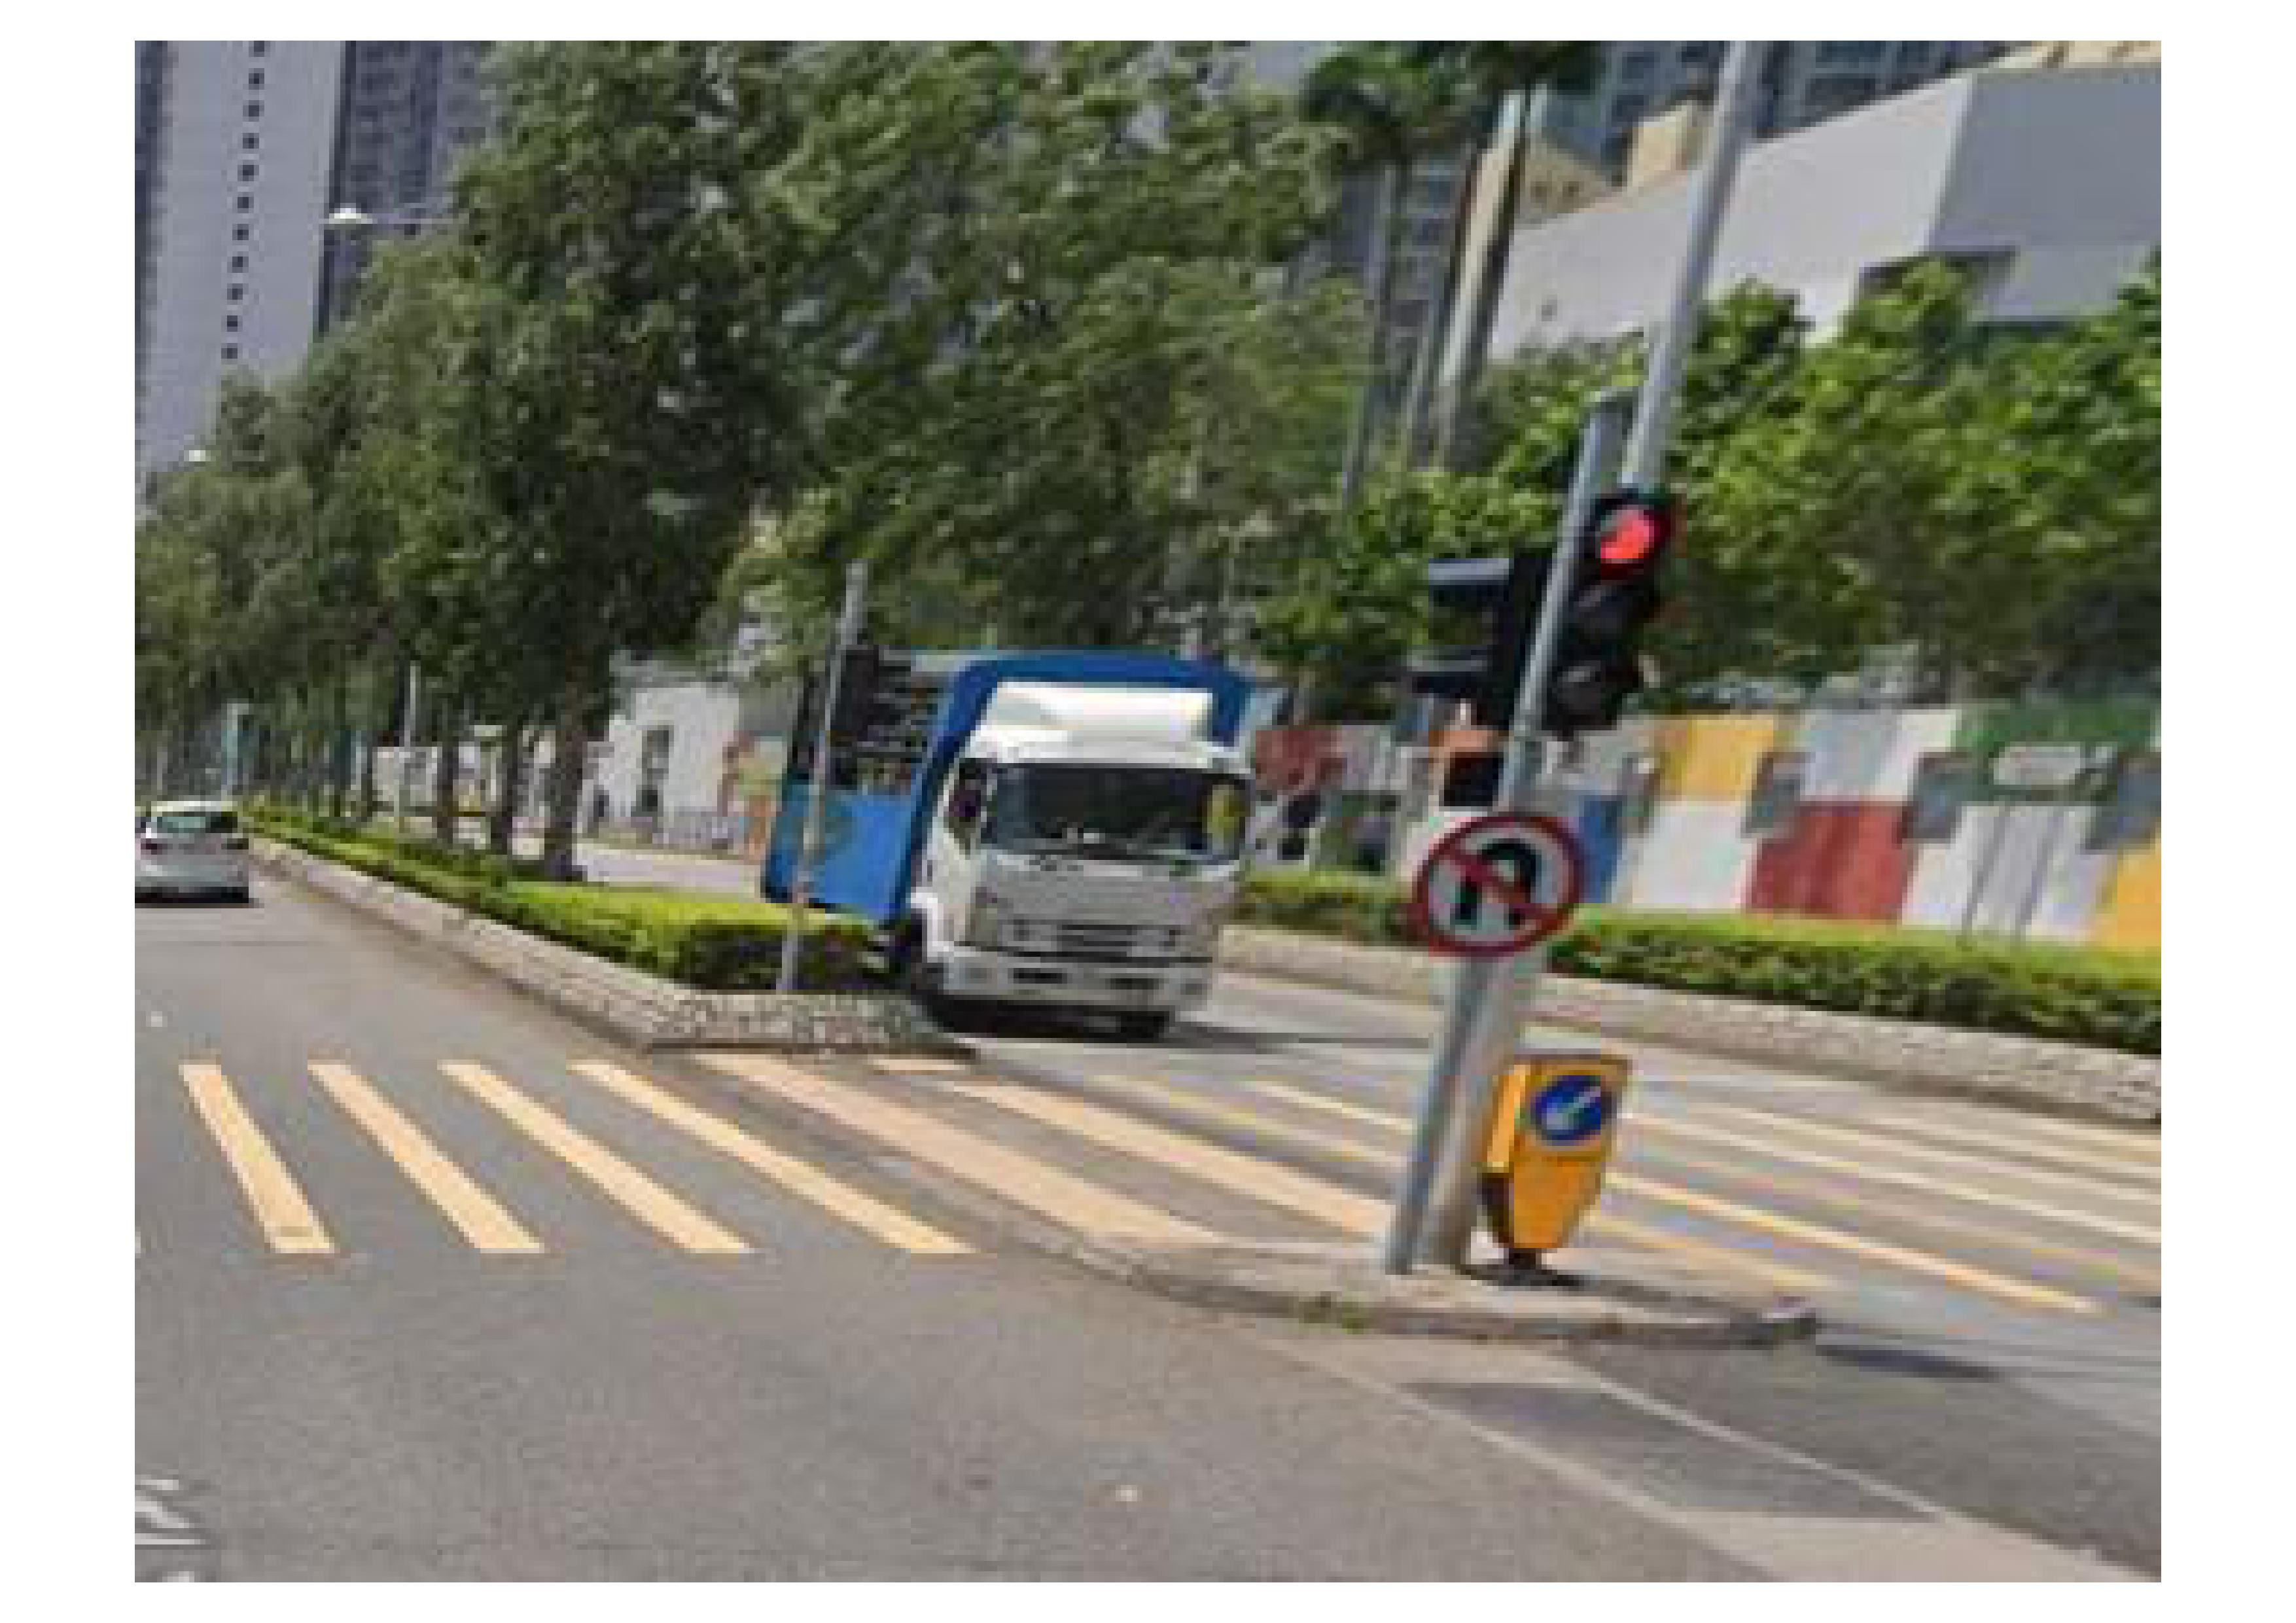No Uturn: (1411, 819, 1587, 963)
